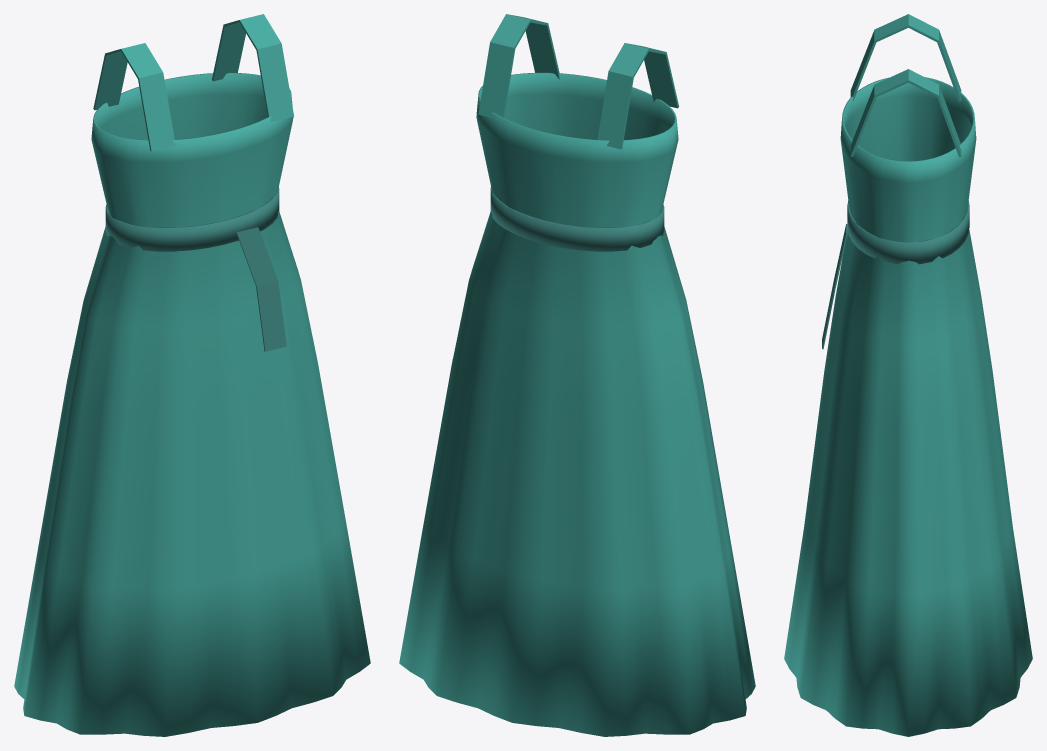
File: dress_maxi.glb
3 renders of one model, left to right at view 1: azimuth 30°, elevation 25°; view 2: azimuth 150°, elevation 25°; view 3: azimuth 270°, elevation 25°, orthographic. The views are drawn at different scales.
Parts seen in each view (by area): view 1: Maxi_Dress_Long_Flowing_Skirt, Maxi_Dress_Shoulder_Strap, Maxi_Dress_Shoulder_Strap.001, Maxi_Dress_Waist_Sash, Maxi_Dress_Sash_End; view 2: Maxi_Dress_Long_Flowing_Skirt, Maxi_Dress_Waist_Sash, Maxi_Dress_Shoulder_Strap, Maxi_Dress_Shoulder_Strap.001; view 3: Maxi_Dress_Long_Flowing_Skirt, Maxi_Dress_Waist_Sash, Maxi_Dress_Shoulder_Strap.001, Maxi_Dress_Shoulder_Strap, Maxi_Dress_Sash_End.
Boxes of the visible parts, x1,y1,x2,y2 form: Maxi_Dress_Long_Flowing_Skirt: (14,72,370,736); Maxi_Dress_Shoulder_Strap: (93,43,175,151); Maxi_Dress_Shoulder_Strap.001: (212,14,294,122); Maxi_Dress_Waist_Sash: (105,187,279,251); Maxi_Dress_Sash_End: (236,227,286,351); Maxi_Dress_Long_Flowing_Skirt: (399,72,755,736); Maxi_Dress_Waist_Sash: (490,187,664,251); Maxi_Dress_Shoulder_Strap: (597,43,679,149); Maxi_Dress_Shoulder_Strap.001: (478,14,559,117); Maxi_Dress_Long_Flowing_Skirt: (784,77,1032,736); Maxi_Dress_Waist_Sash: (847,201,969,264); Maxi_Dress_Shoulder_Strap.001: (850,69,961,156); Maxi_Dress_Shoulder_Strap: (850,14,961,102); Maxi_Dress_Sash_End: (822,224,847,349).
Size of the model in its own units: 0.7496 by 1.37 by 0.505.
